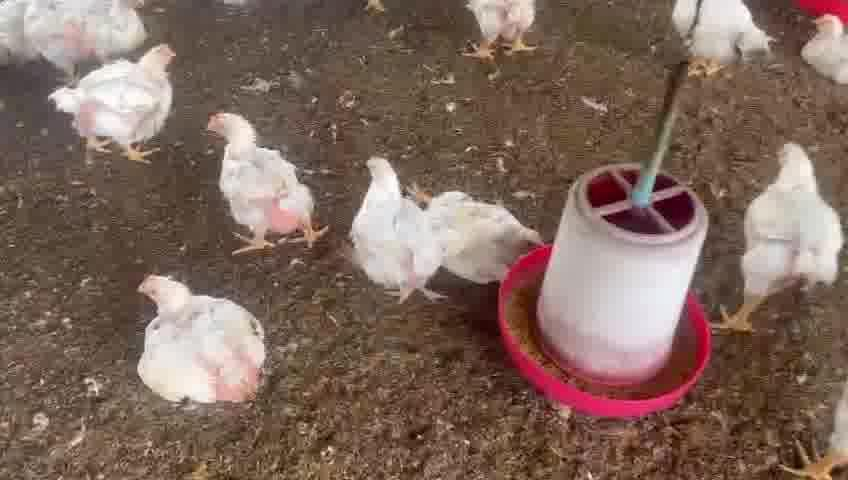AbNormal: (130, 275, 260, 405), (407, 180, 541, 279), (801, 11, 848, 83)
Normal: (720, 140, 838, 332), (205, 110, 327, 253), (55, 42, 179, 164), (351, 155, 439, 304), (784, 367, 848, 480), (672, 2, 764, 77), (467, 3, 539, 62)
